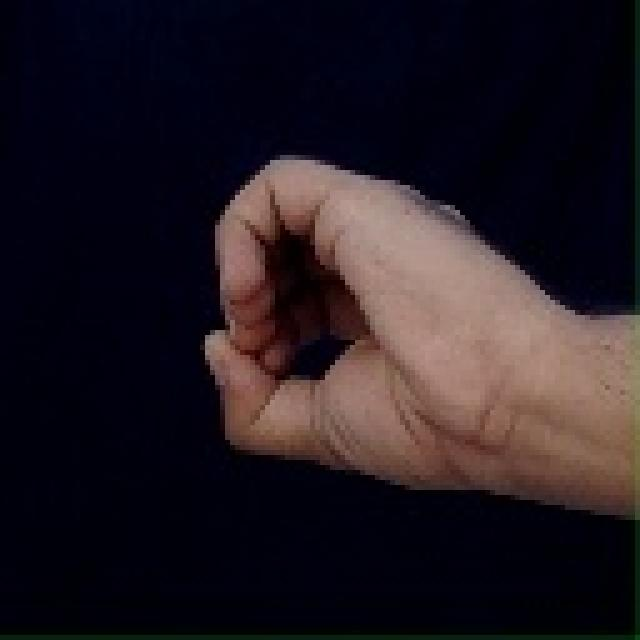Alphabet-O: (150, 137, 640, 552)
